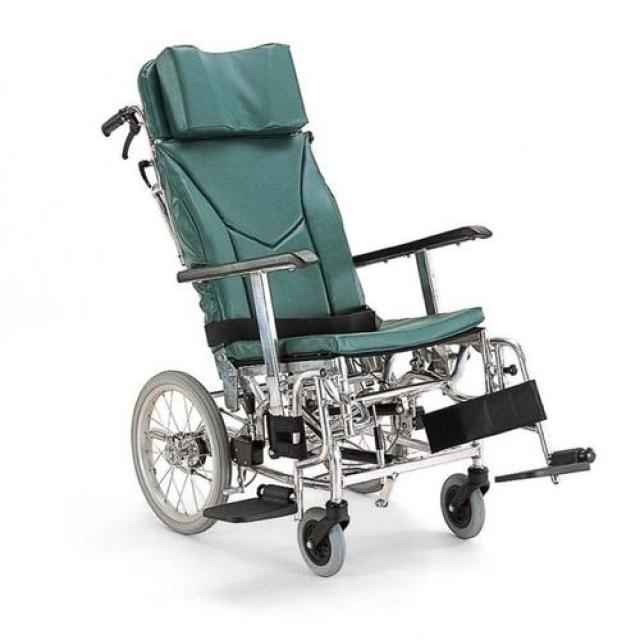wheelchairs: (77, 32, 619, 584)
